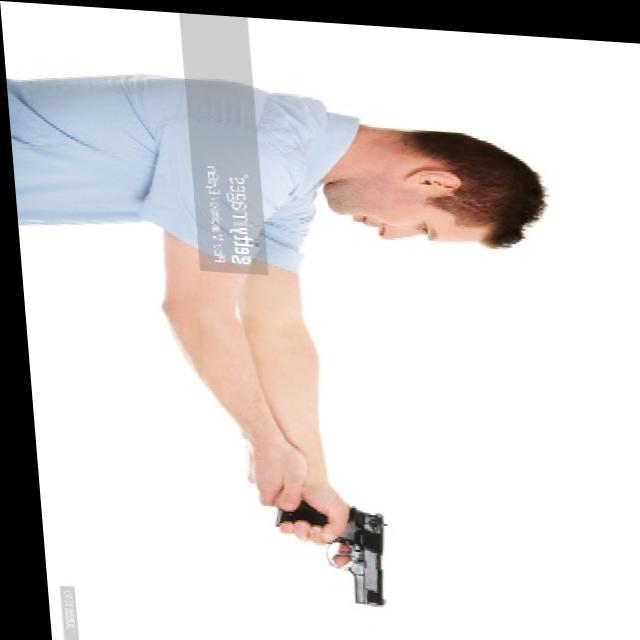handgun: (268, 496, 390, 606)
